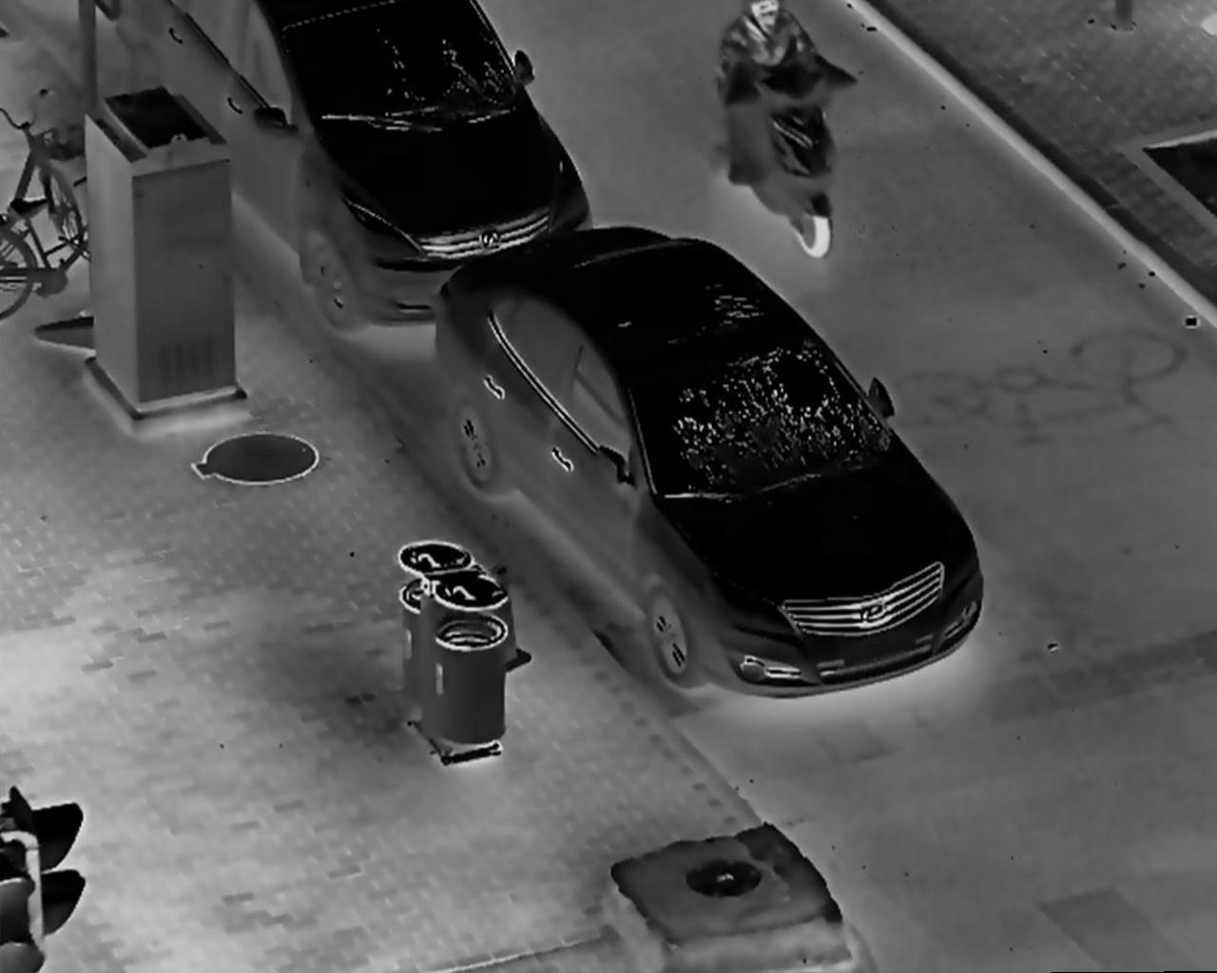person: (713, 3, 826, 169)
